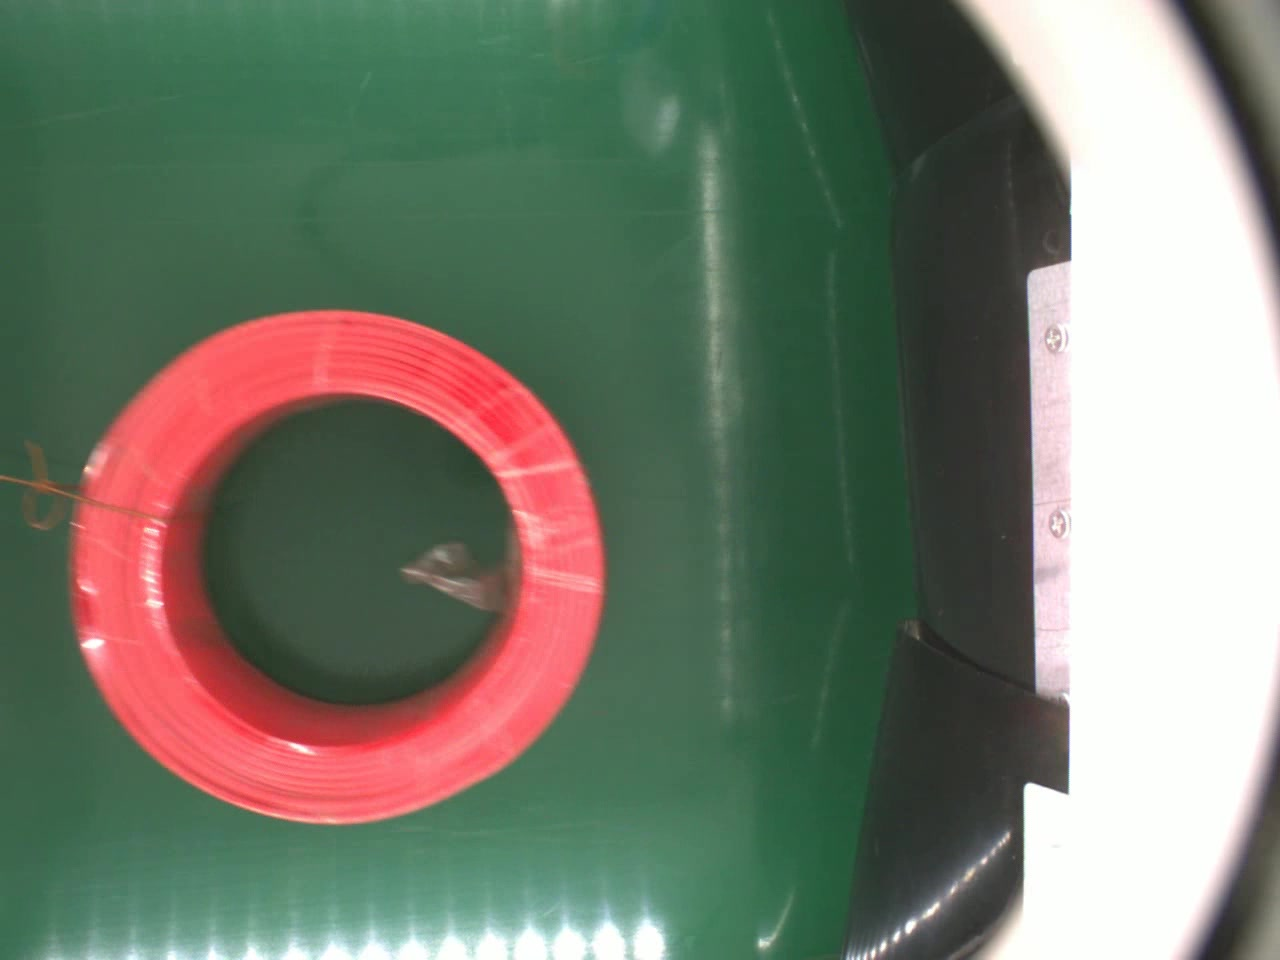red: (69, 306, 605, 829)
